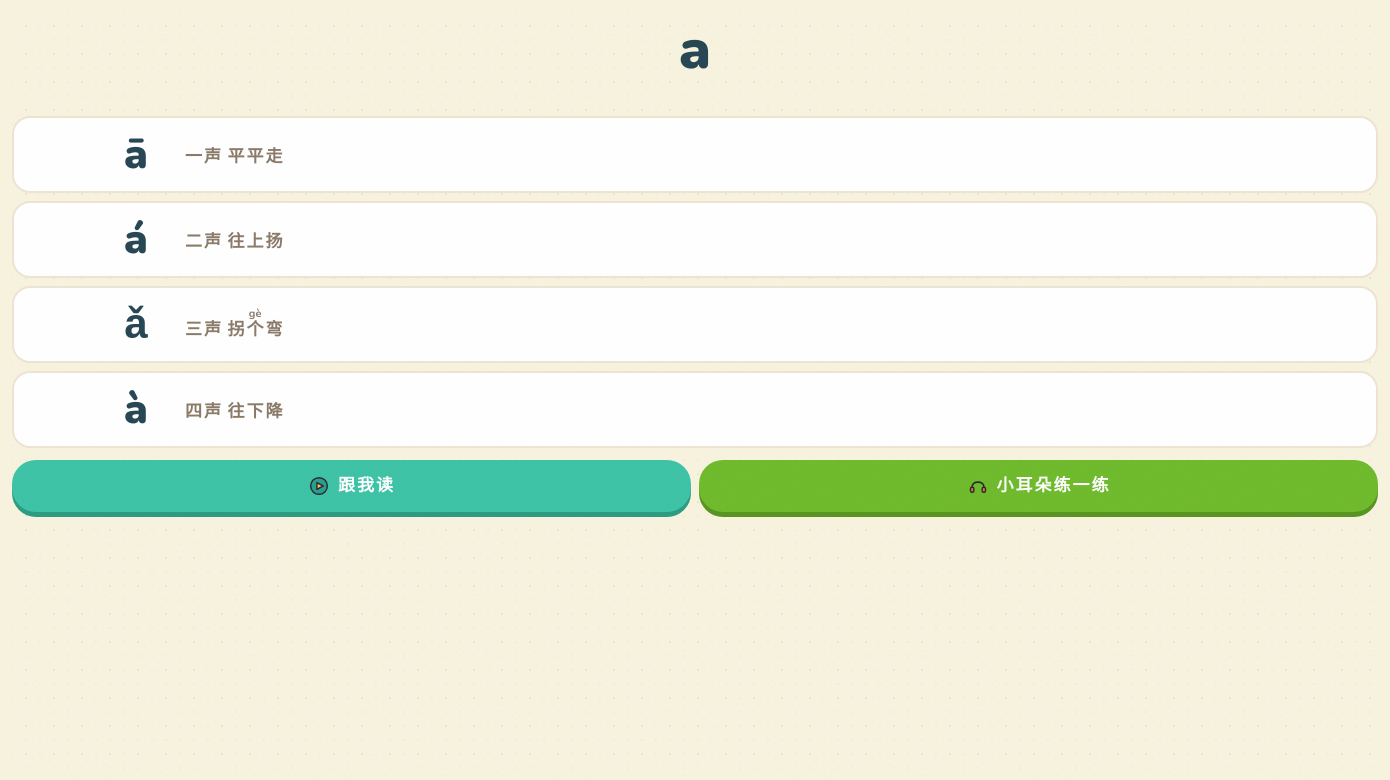
Scenario: 听调辨调两段式（Bug#37 状态流） › 出题不自动播音（v2.6 零自动播放——孩子点 🔊 控节奏）
Click the button "小 耳 朵 练 一 练": coordinates (1038, 486) [699, 460, 1378, 512]
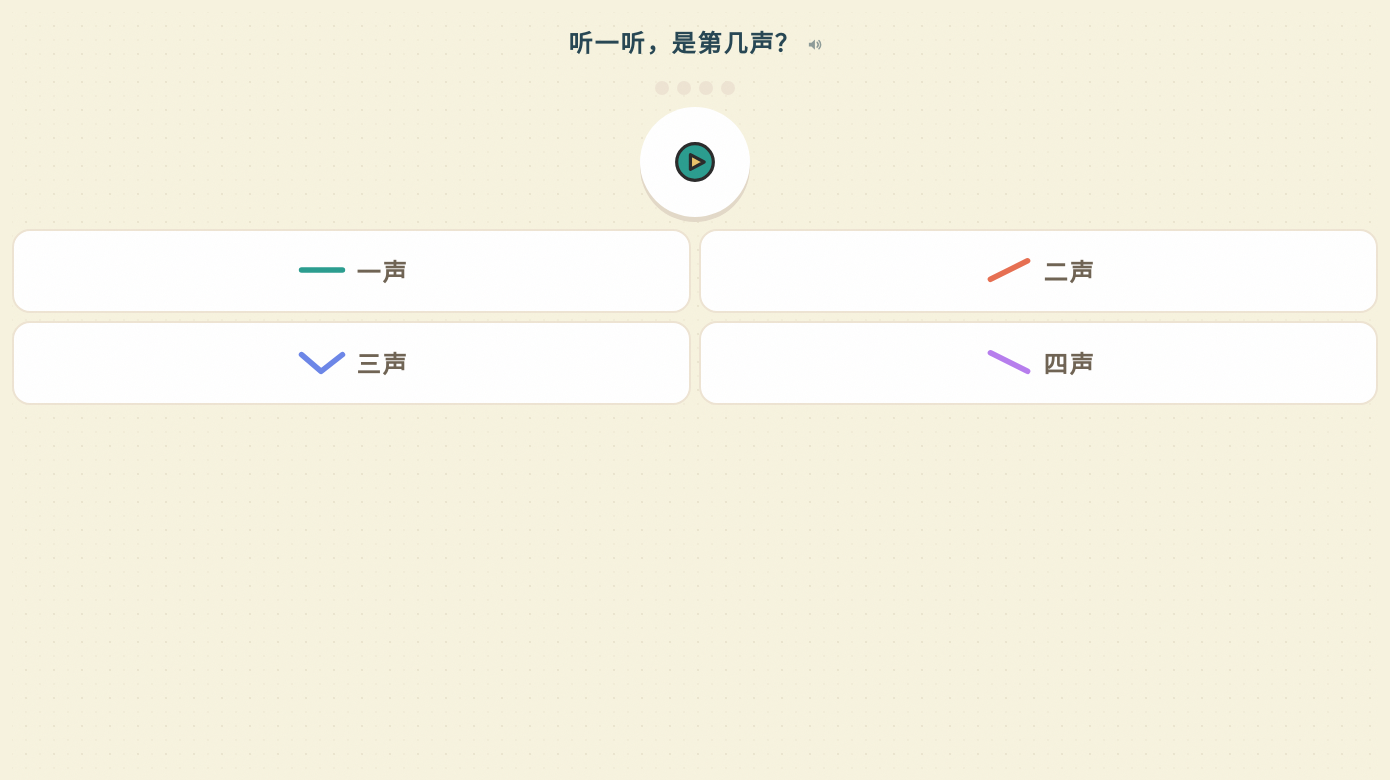
Expected: the number of buttons with class "topt" is 4, [12, 229, 691, 313]; [699, 229, 1378, 313]; [12, 321, 691, 405]; [699, 321, 1378, 405]
